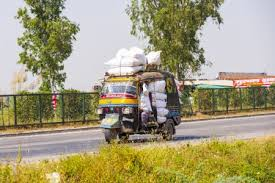tuk tuk: (95, 71, 182, 143)
